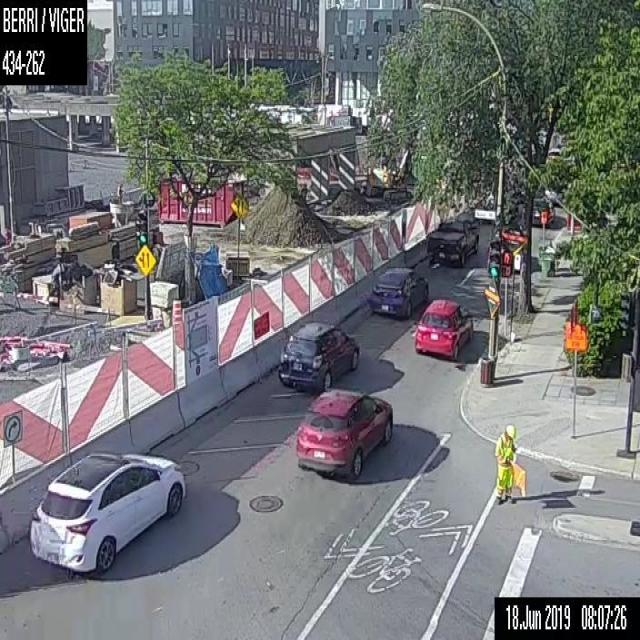construction: (0, 89, 448, 550), (564, 321, 586, 437), (2, 408, 22, 485), (171, 298, 182, 325)
pedestrian: (493, 423, 525, 504)
vehicle: (28, 449, 186, 575), (295, 387, 393, 479), (277, 319, 360, 391), (414, 298, 474, 360), (367, 264, 427, 317), (426, 216, 479, 267), (531, 194, 555, 224)
